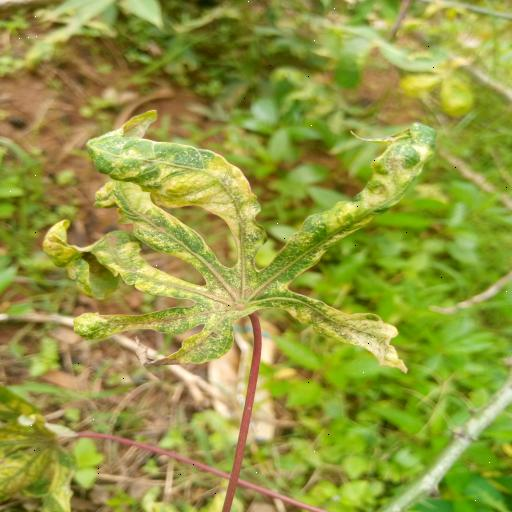Cassava_Mosaic: (33, 104, 442, 376)
